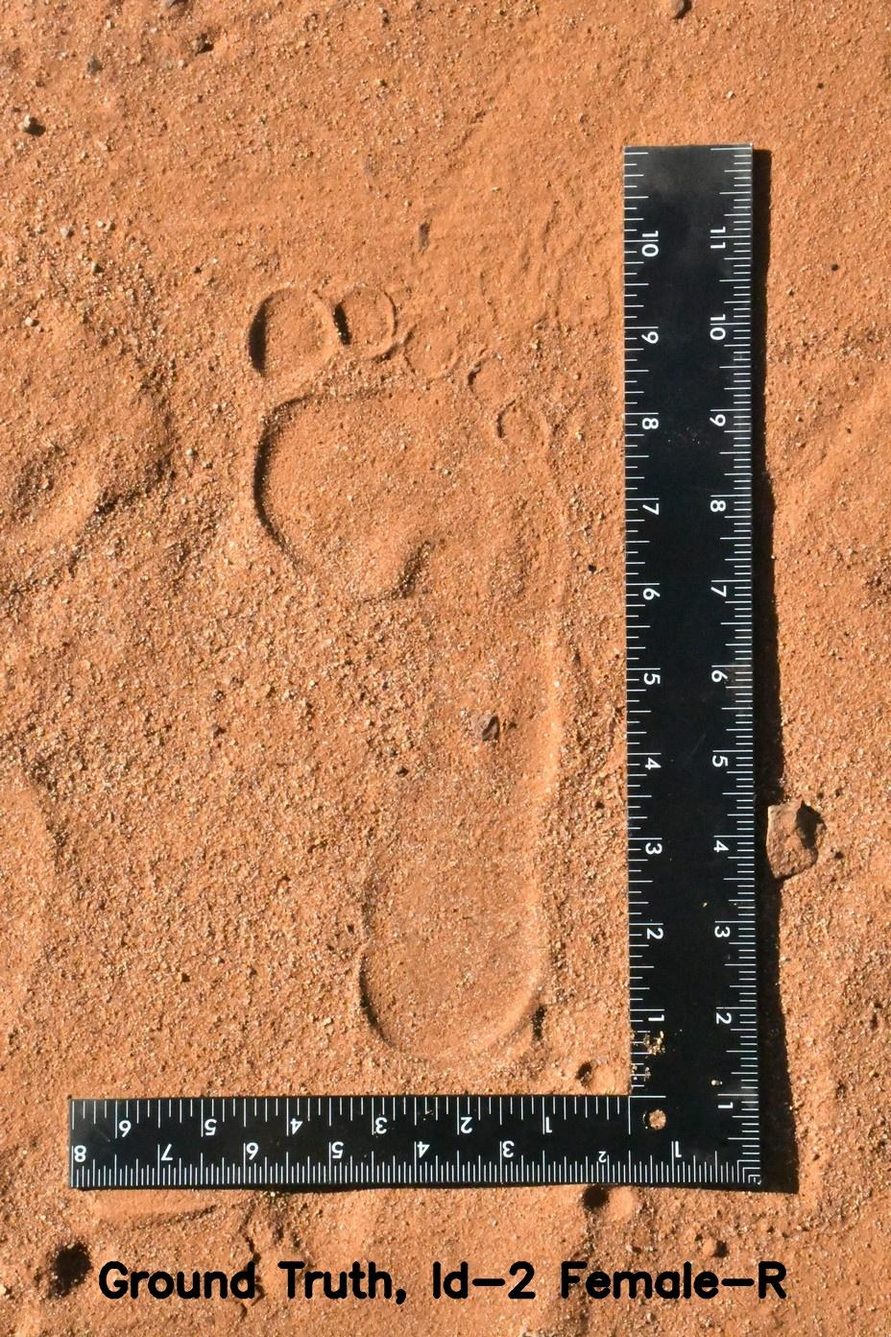human_foot_print: (209, 250, 608, 1082)
